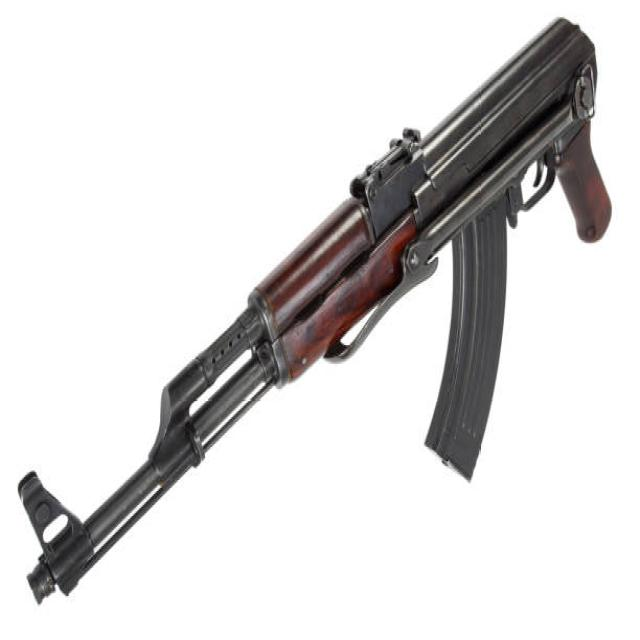rifle: (19, 14, 615, 617)
